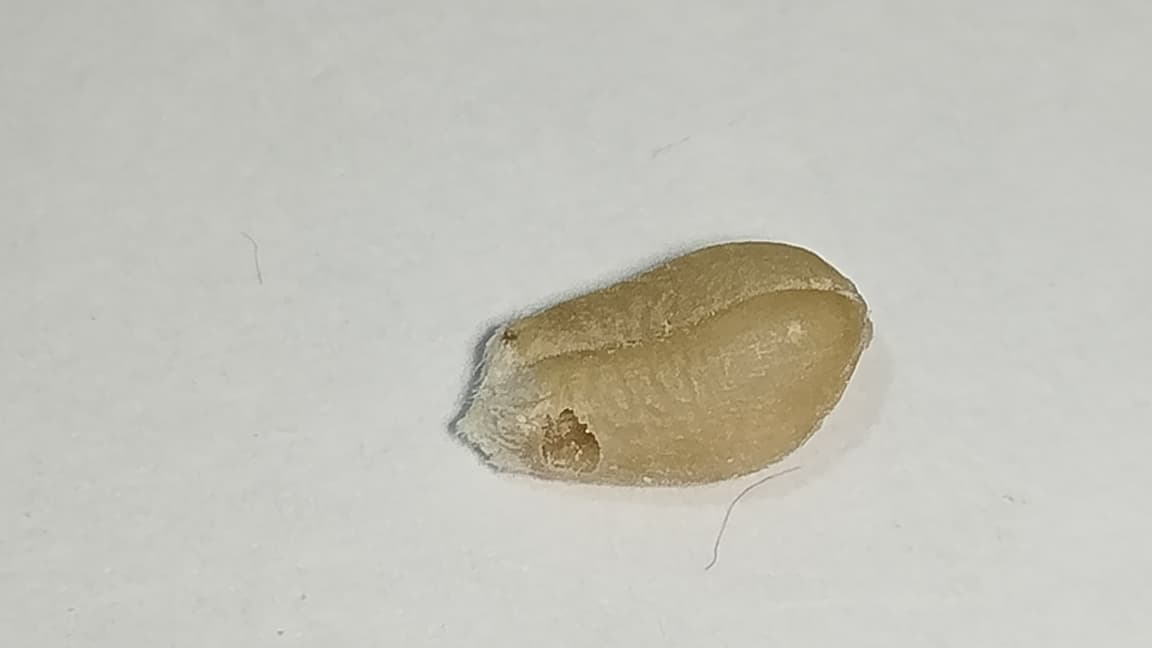damage: (456, 242, 869, 485)
insectdamage: (520, 384, 618, 496)
